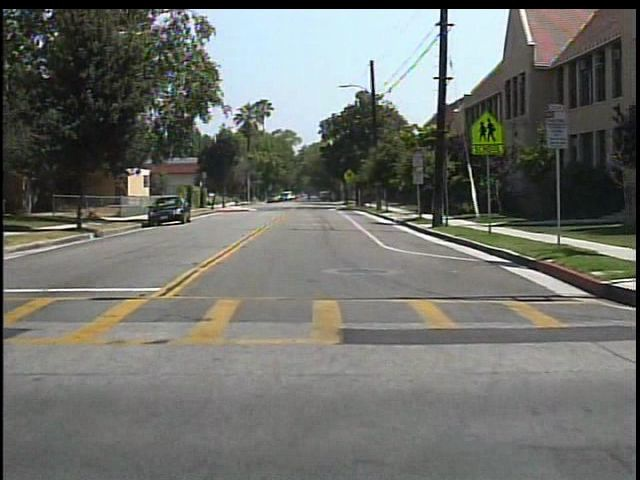person: (302, 189, 317, 207)
